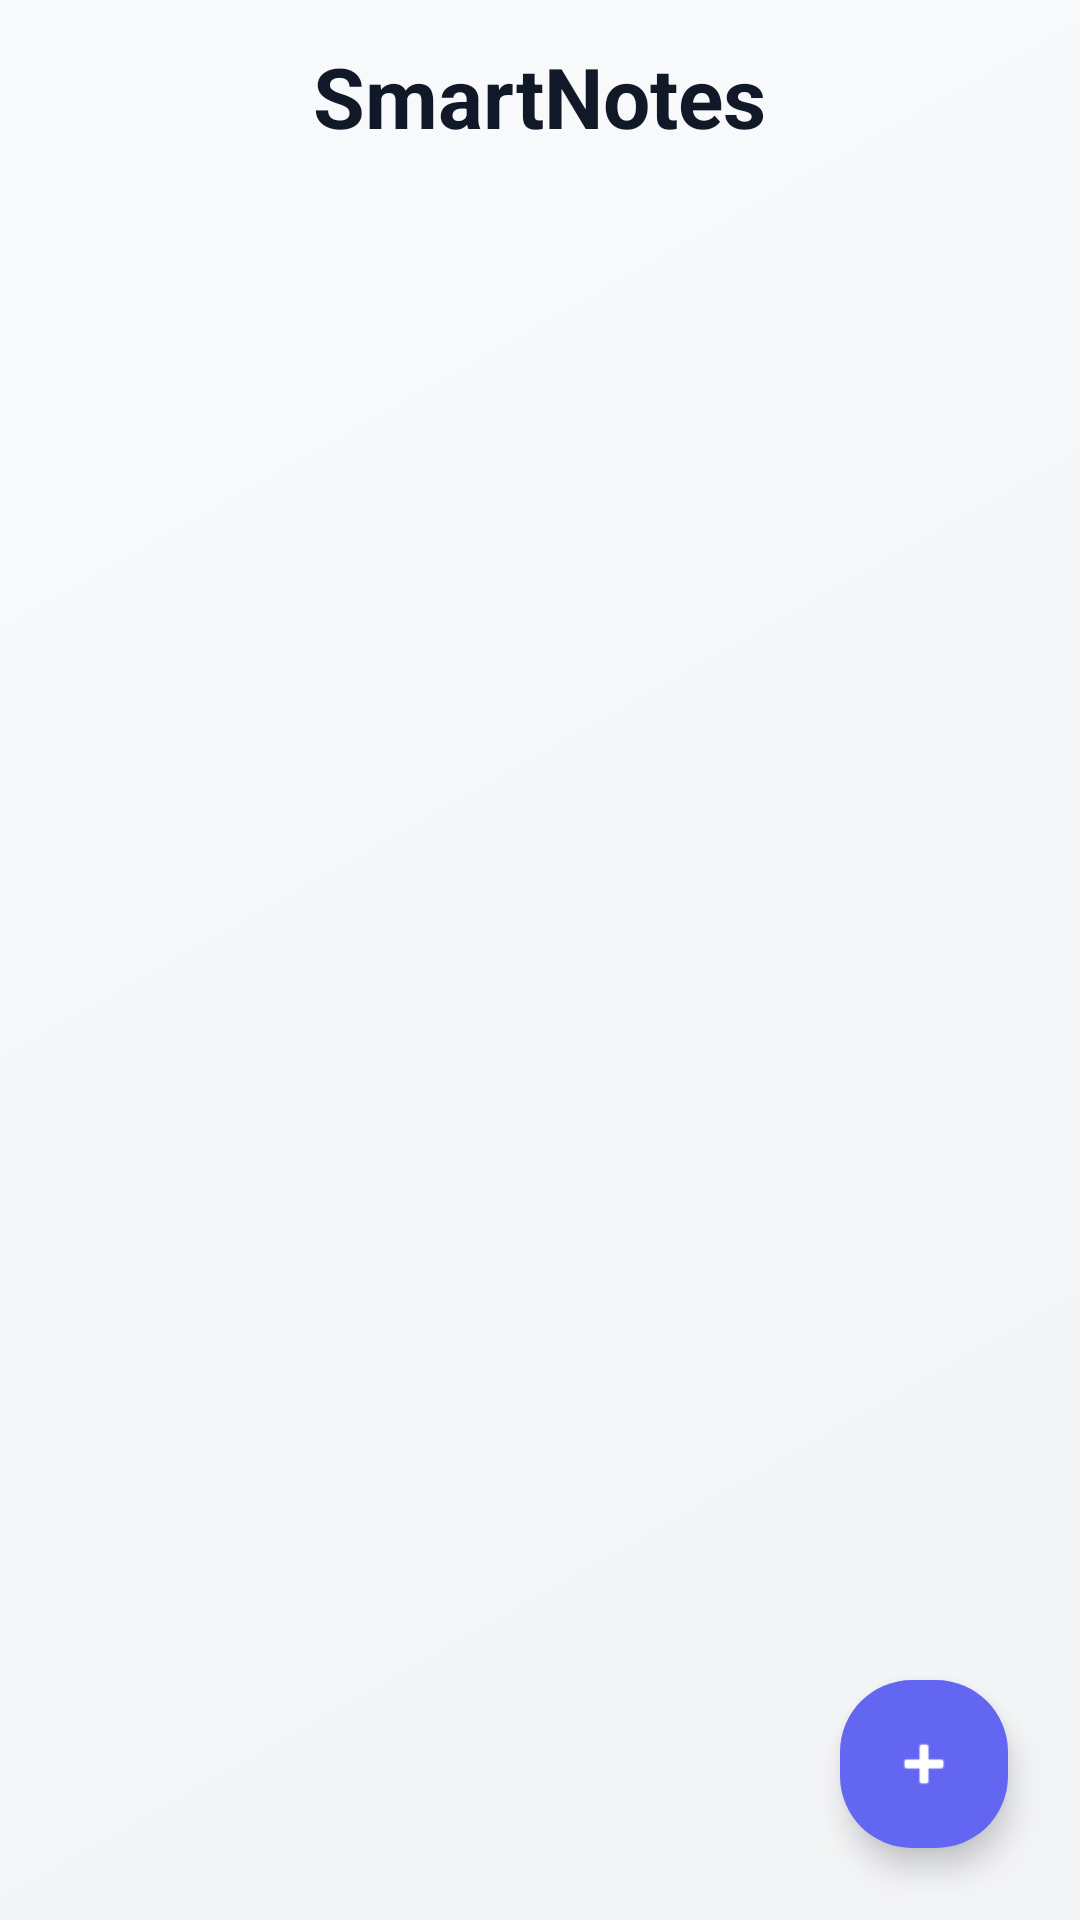

Named icons in this screenshot (1080x1920) and their bounding boxes, (x1, y1, x2, y2):
Add Note: (840, 1680, 1008, 1848)
